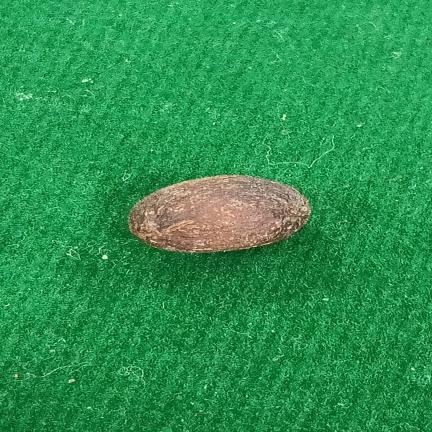husk: (128, 175, 311, 253)
